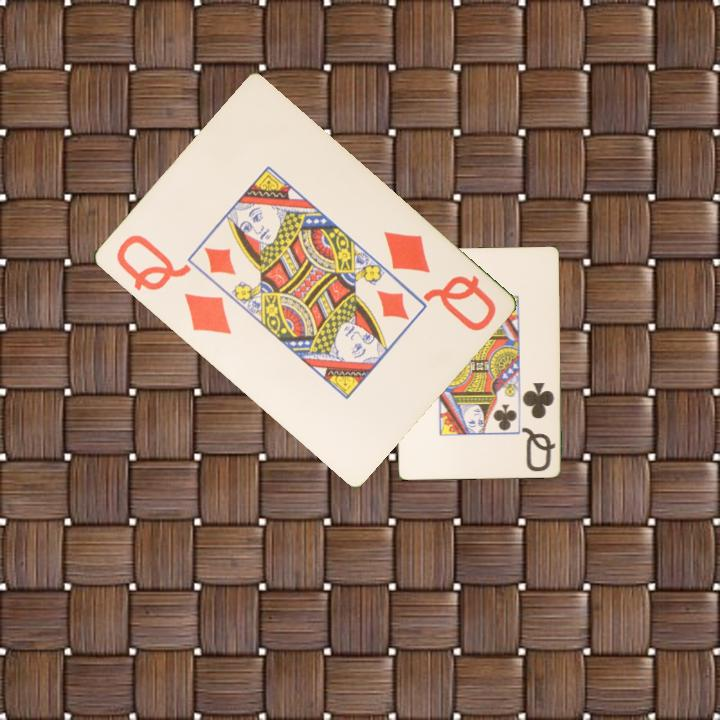Qc: (519, 379, 558, 474)
Qd: (111, 231, 235, 338), (379, 227, 499, 335)
